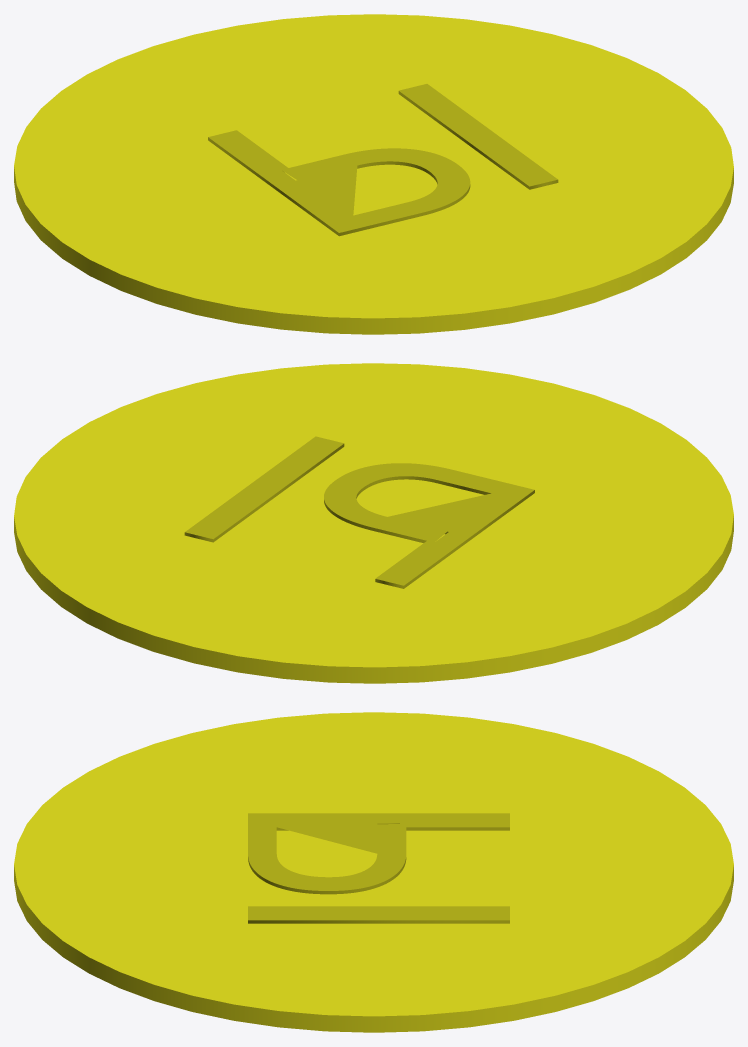
The model's file is Coin.fbx.
3 views of the same model, one above another, from view 1: azimuth 30°, elevation 25°; view 2: azimuth 150°, elevation 25°; view 3: azimuth 270°, elevation 25° (orthographic).
Visible parts, largest first — view 1: ОкружностьБезье, Текст; view 2: ОкружностьБезье, Текст; view 3: ОкружностьБезье, Текст.
Boxes of the visible parts, x1,y1,x2,y2 form: ОкружностьБезье: (14, 14, 733, 334); Текст: (208, 84, 558, 236); ОкружностьБезье: (14, 363, 733, 683); Текст: (184, 436, 534, 588); ОкружностьБезье: (14, 712, 733, 1032); Текст: (248, 813, 509, 923).
Size of the model in its own units: 200 by 6 by 200.
